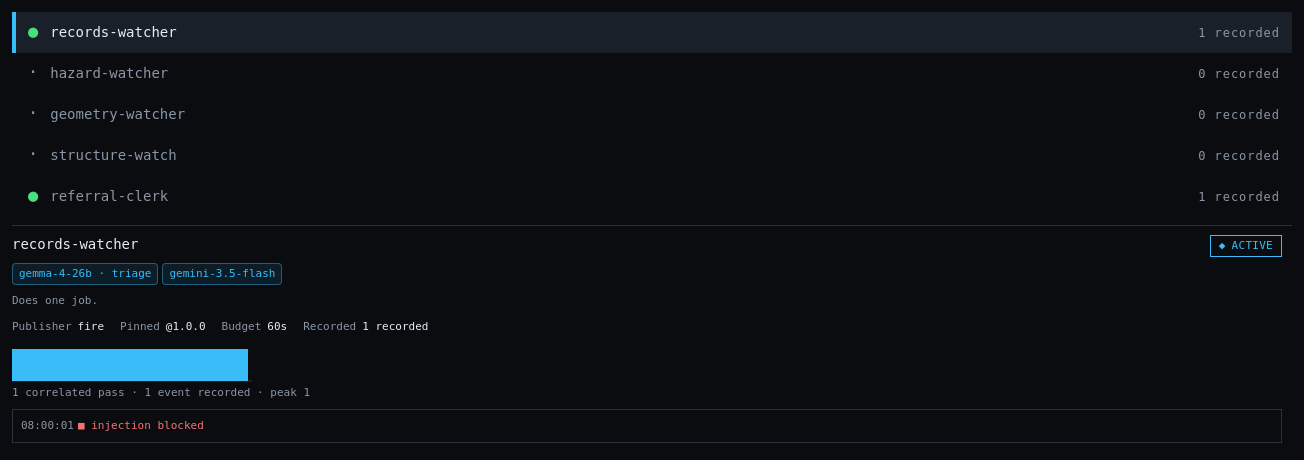
every agent gets its own visual › reports registry reachability from the district source health
Click the button with test id "fleet-row-hazard-watcher" at (109, 73), box [12, 53, 1292, 94]
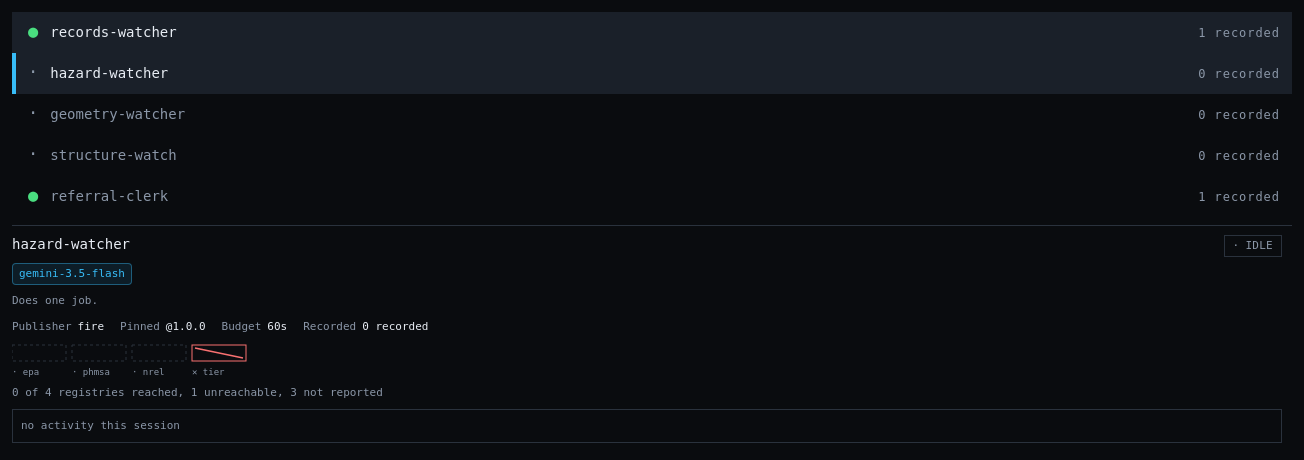
Now the element with test id "fleet-visual-hazard-watcher" shows "0 of 4 registries reached, 1 unreachable, 3 not reported", box [12, 386, 383, 399]
